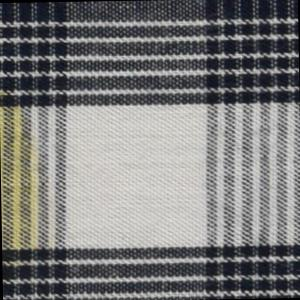Stain: (1, 86, 46, 254)
